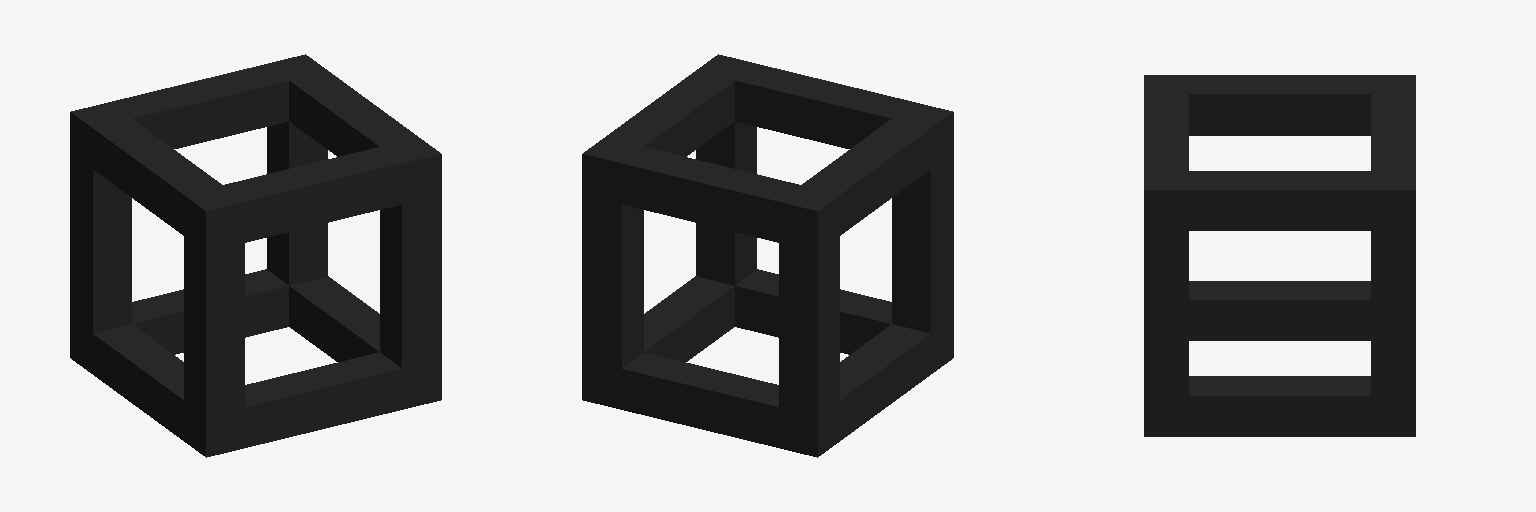
Rendered from hollow_ground.obj.
3 views of the same model, side by side, from view 1: azimuth 30°, elevation 25°; view 2: azimuth 150°, elevation 25°; view 3: azimuth 270°, elevation 25° (orthographic).
Visible parts, largest first — view 1: ground cube; view 2: ground cube; view 3: ground cube.
Boxes of the visible parts, <box> form: ground cube: <box>70,54,441,457</box>; ground cube: <box>582,54,953,457</box>; ground cube: <box>1144,75,1415,436</box>.
Bounding box in the file's own units: 3 × 3 × 3.